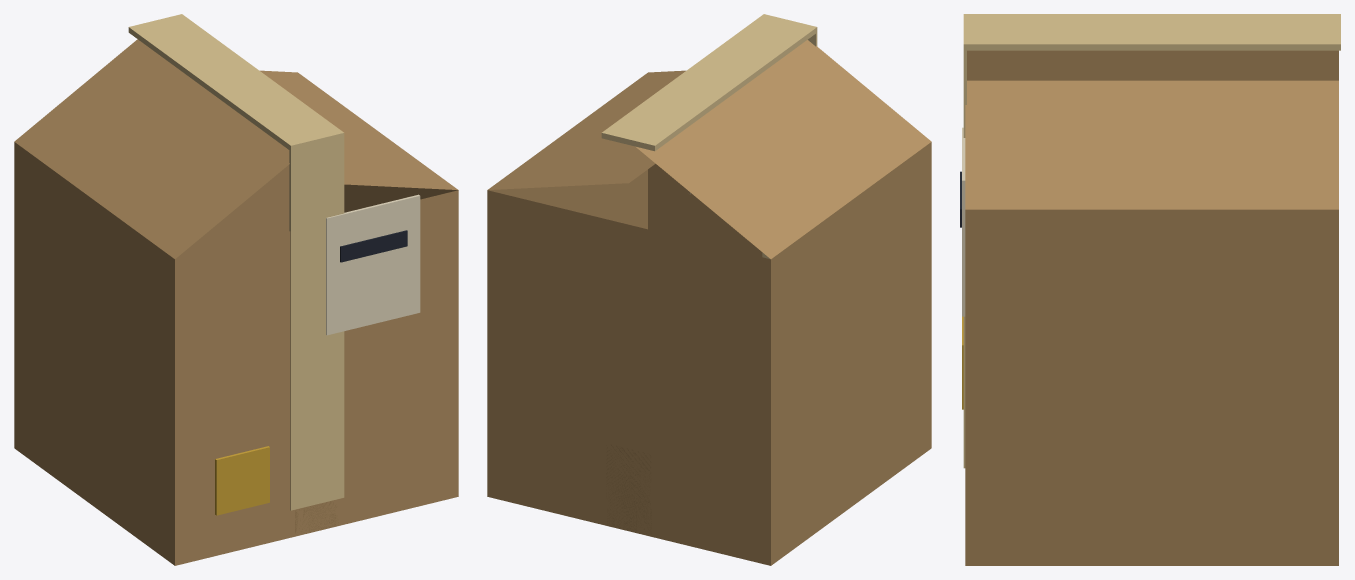
The model's file is cardboardBoxClosed.glb.
The picture shows the model from 3 angles, left to right: view 1: azimuth 30°, elevation 25°; view 2: azimuth 150°, elevation 25°; view 3: azimuth 270°, elevation 25°; orthographic projection. The views are drawn at different scales.
Visible parts, largest first — view 1: cardboardBoxClosed(Clone); view 2: cardboardBoxClosed(Clone); view 3: cardboardBoxClosed(Clone).
Boxes of the visible parts, x1,y1,x2,y2 form: cardboardBoxClosed(Clone): (14,14,458,565); cardboardBoxClosed(Clone): (487,14,931,565); cardboardBoxClosed(Clone): (960,14,1340,565).
Size of the model in its own units: 0.2125 by 0.281 by 0.2125.
